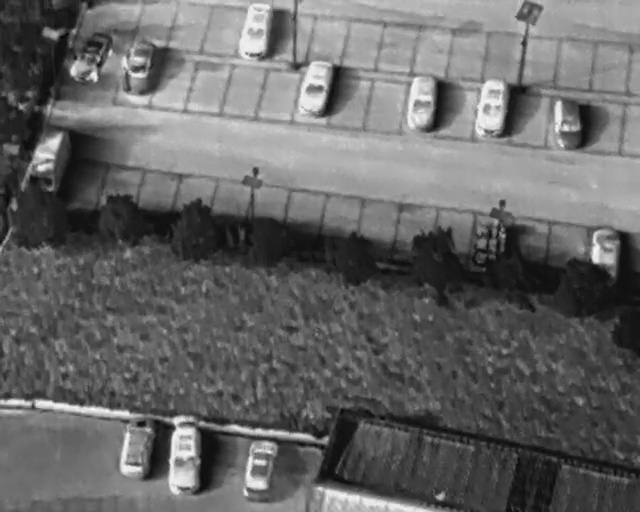Car: (66, 24, 116, 88), (240, 434, 282, 504), (115, 414, 158, 481), (167, 417, 203, 496), (294, 56, 337, 121), (236, 0, 276, 64), (471, 76, 509, 141), (118, 37, 158, 96), (405, 73, 437, 132), (552, 98, 583, 151), (593, 225, 619, 278)
OtherVehicle: (21, 124, 79, 200)
